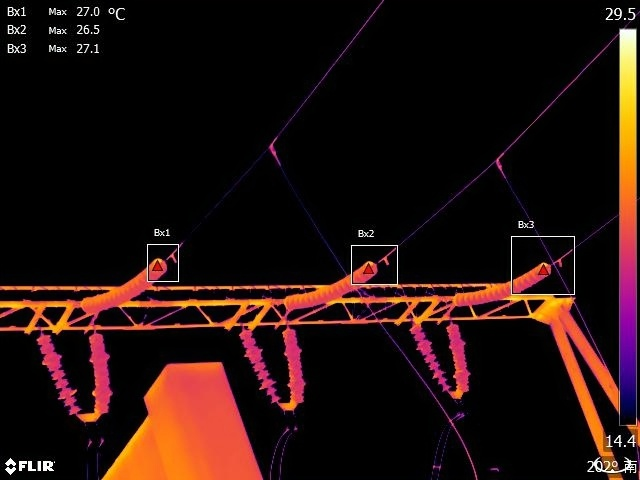clamp: (488, 151, 515, 178), (264, 128, 284, 164), (280, 419, 303, 437), (82, 433, 108, 448), (452, 407, 470, 421)
insulator: (278, 258, 378, 318), (84, 253, 173, 318), (445, 262, 553, 309), (36, 326, 82, 422), (239, 326, 283, 408), (85, 329, 116, 422), (412, 321, 451, 394), (281, 322, 309, 409), (447, 320, 470, 391)
